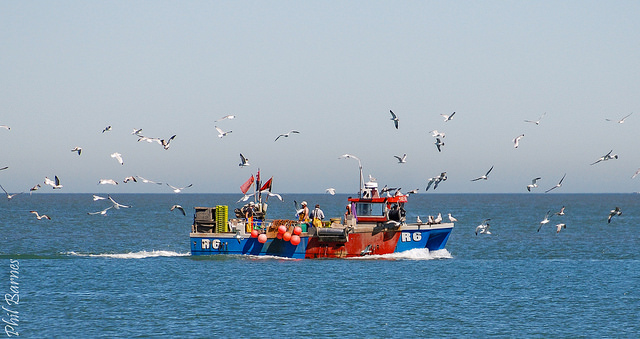fishing_boat: (171, 168, 460, 261)
